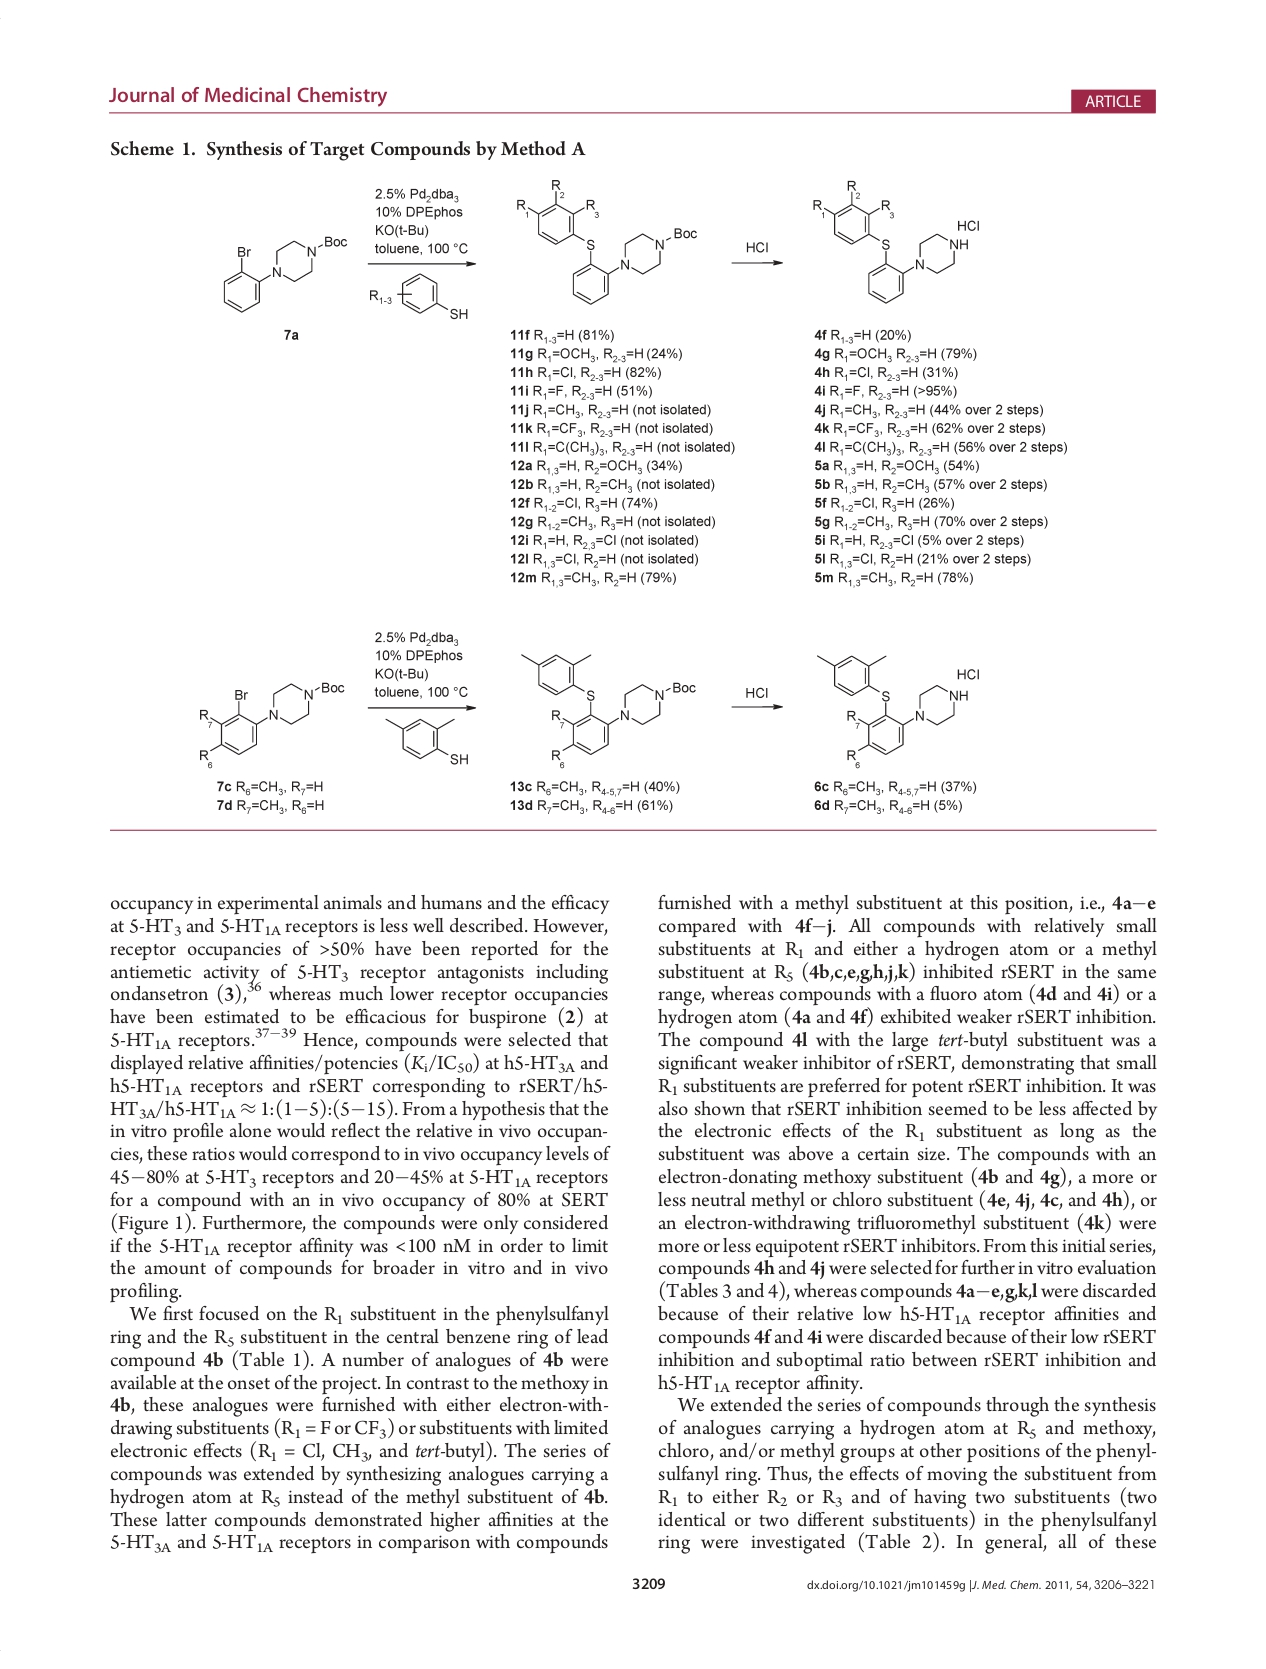exist_molecular: (509, 173, 699, 309), (515, 645, 699, 771), (809, 172, 981, 306), (811, 648, 980, 771), (188, 678, 347, 769), (215, 227, 350, 315), (364, 269, 472, 326), (378, 713, 471, 771)
